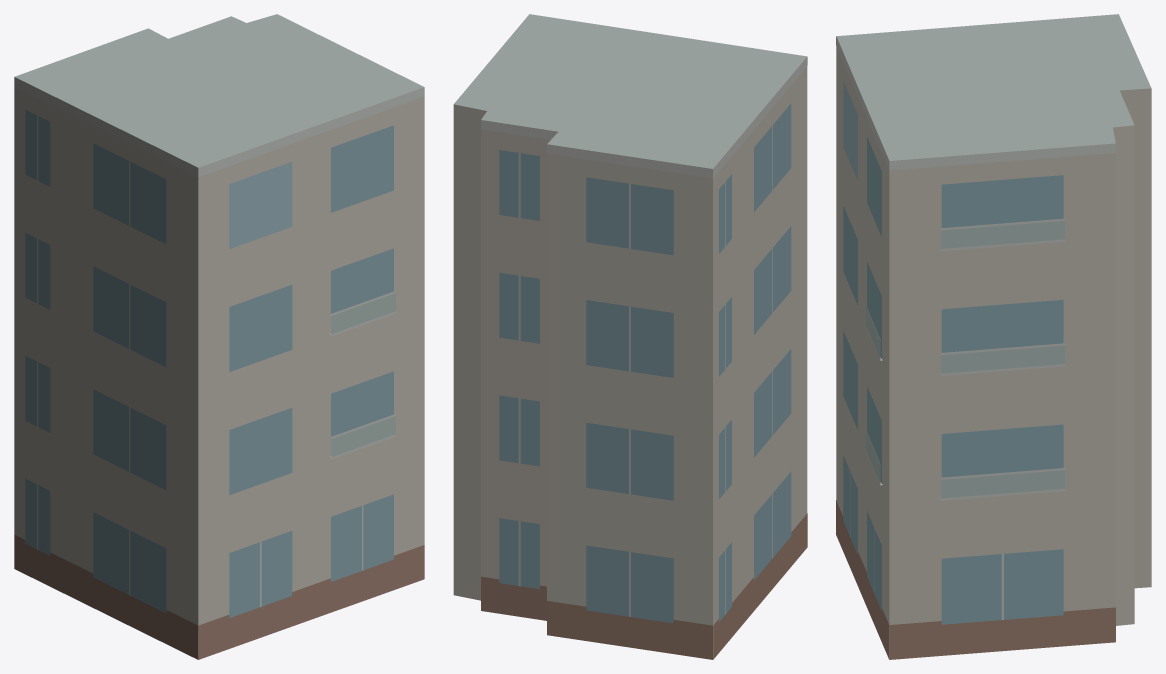
Rendered from survey-upis-32485981.glb.
3 views of the same model, side by side, from view 1: azimuth 30°, elevation 25°; view 2: azimuth 150°, elevation 25°; view 3: azimuth 270°, elevation 25° (orthographic).
Visible parts, largest first — view 1: survey-upis-32485981.tmp; view 2: survey-upis-32485981.tmp; view 3: survey-upis-32485981.tmp.
Boxes of the visible parts, x1,y1,x2,y2 form: survey-upis-32485981.tmp: (14, 14, 424, 659); survey-upis-32485981.tmp: (453, 14, 807, 659); survey-upis-32485981.tmp: (836, 14, 1151, 659).
Bounding box in the file's own units: 8.1 × 12.8 × 7.34.
